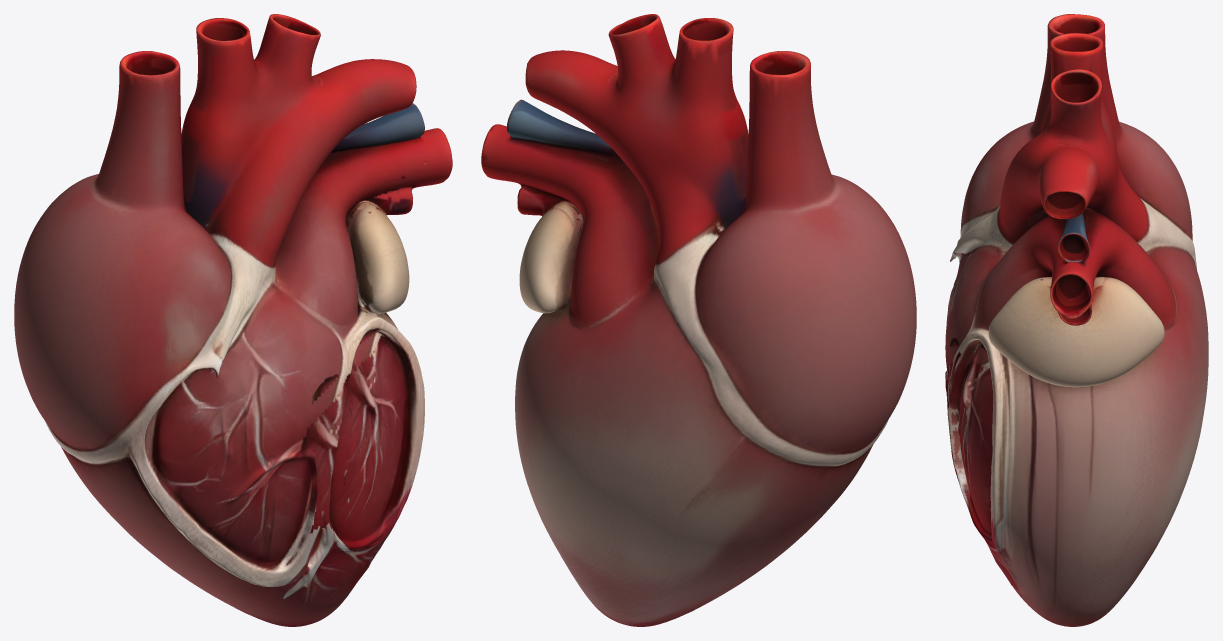
The model's file is vet_v2_organ_rabbit_heart.glb.
3 views of the same model, side by side, from view 1: azimuth 30°, elevation 25°; view 2: azimuth 150°, elevation 25°; view 3: azimuth 270°, elevation 25° (orthographic). The views are drawn at different scales.
Parts seen in each view (by area): view 1: model; view 2: model; view 3: model.
Boxes of the visible parts, left/top/right/bottom form: model: left=14, top=14, right=452, bottom=626; model: left=481, top=14, right=916, bottom=626; model: left=945, top=14, right=1208, bottom=626.
Size of the model in its own units: 1.33 by 1.9 by 0.8281.
Materials: 1 (1 with a texture image).
